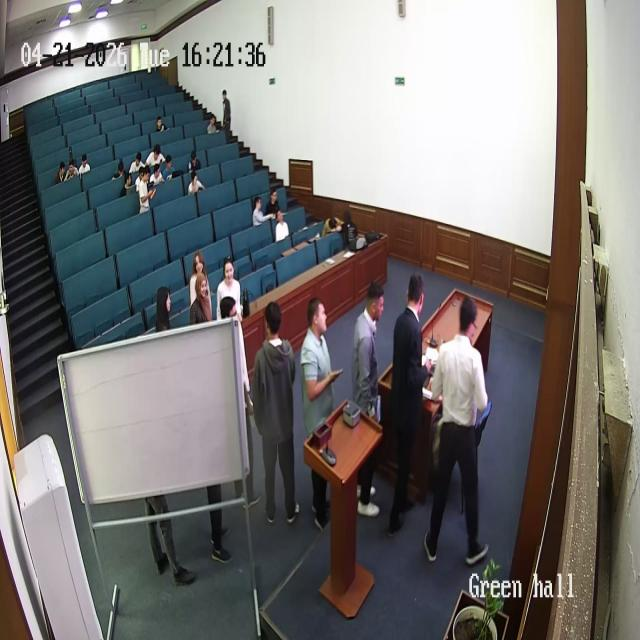person: (422, 296, 490, 564), (142, 287, 198, 586), (385, 273, 435, 535), (206, 292, 253, 554), (251, 300, 300, 524), (299, 296, 341, 529), (350, 282, 388, 516), (215, 256, 244, 324), (188, 251, 212, 321), (188, 273, 212, 325), (136, 165, 154, 215), (341, 213, 361, 251), (252, 194, 274, 226), (220, 88, 232, 138), (274, 208, 290, 241), (145, 143, 165, 169), (322, 215, 344, 238), (187, 169, 205, 195), (128, 149, 146, 175), (120, 170, 136, 197), (162, 153, 178, 180), (267, 187, 281, 217), (52, 159, 68, 185), (149, 161, 166, 185), (64, 158, 80, 182), (77, 152, 91, 176), (187, 150, 201, 172), (206, 113, 220, 135), (112, 159, 126, 180), (152, 115, 166, 133)
